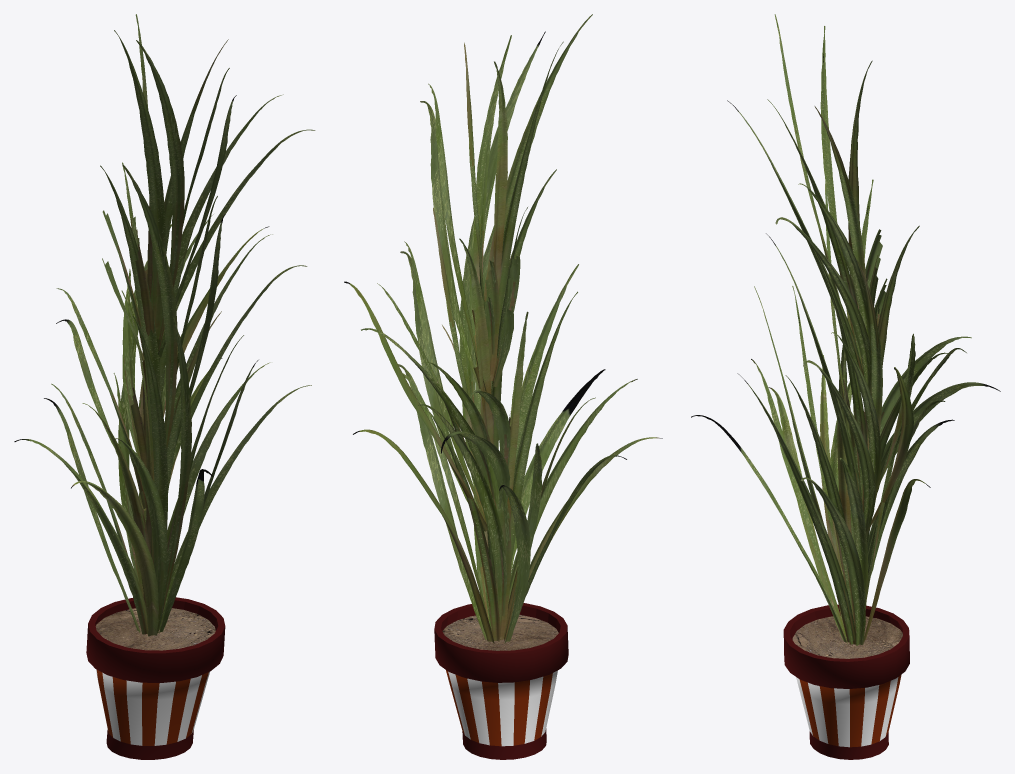
File: Plant 4.FBX
The picture shows the model from 3 angles, left to right: view 1: azimuth 30°, elevation 25°; view 2: azimuth 150°, elevation 25°; view 3: azimuth 270°, elevation 25°; orthographic projection. The views are drawn at different scales.
Visible parts, largest first — view 1: Plant 4; view 2: Plant 4; view 3: Plant 4.
Part boxes in pixels (x1,y1,x2,y2): Plant 4: (14, 14, 315, 759); Plant 4: (344, 14, 662, 759); Plant 4: (691, 14, 1000, 759).
Bounding box in the file's own units: 584 × 602 × 1512.
